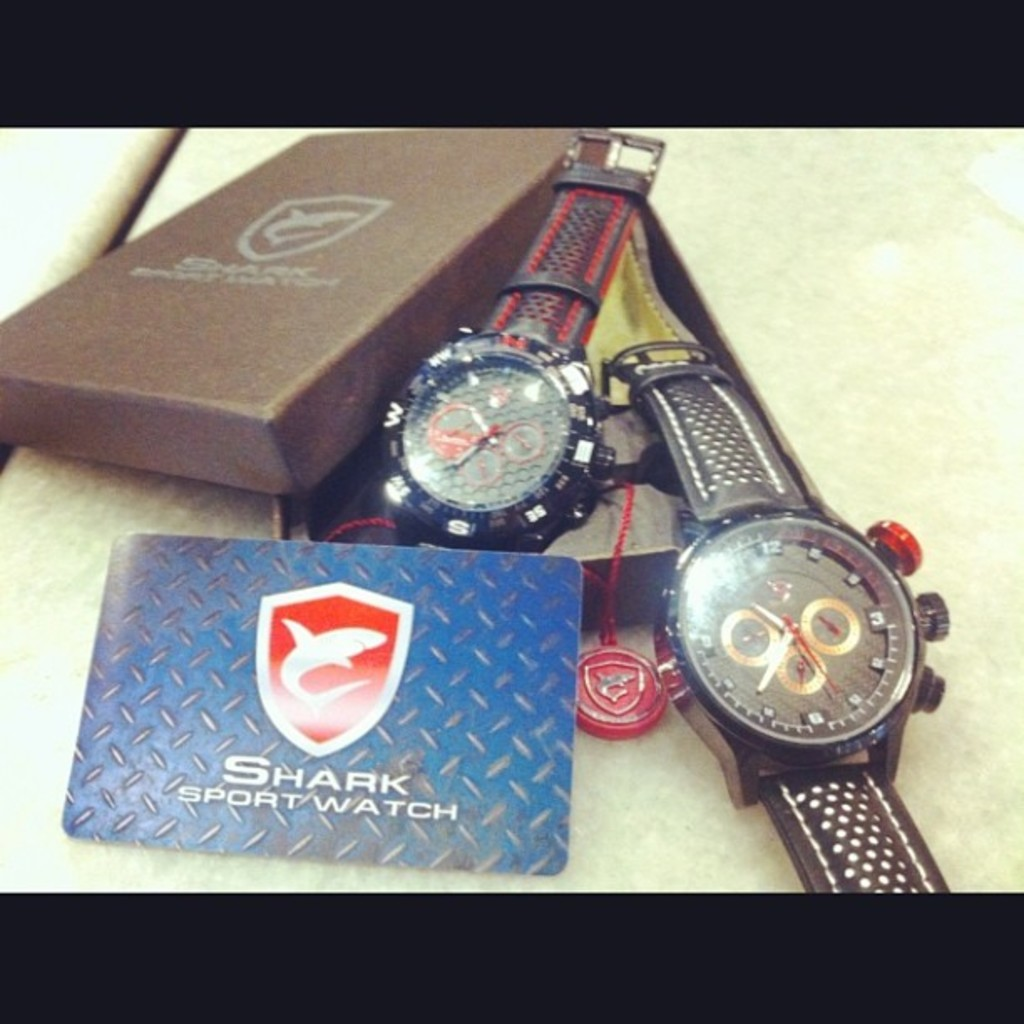watch: (369, 130, 660, 550)
